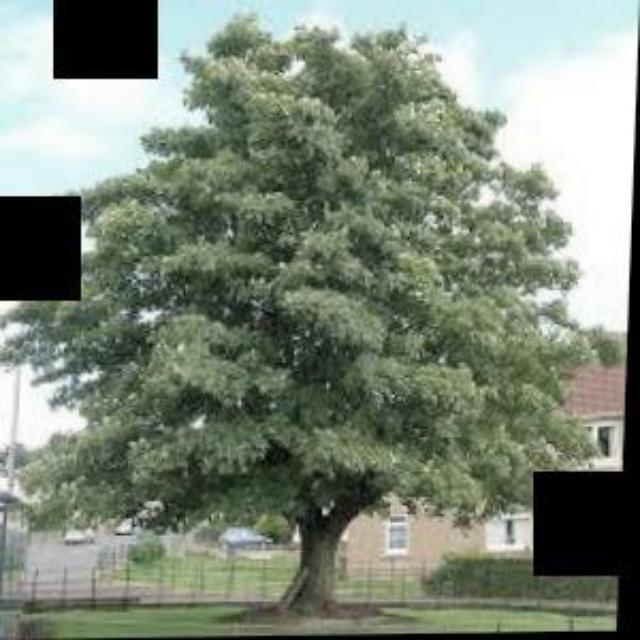tree: (1, 7, 636, 625)
